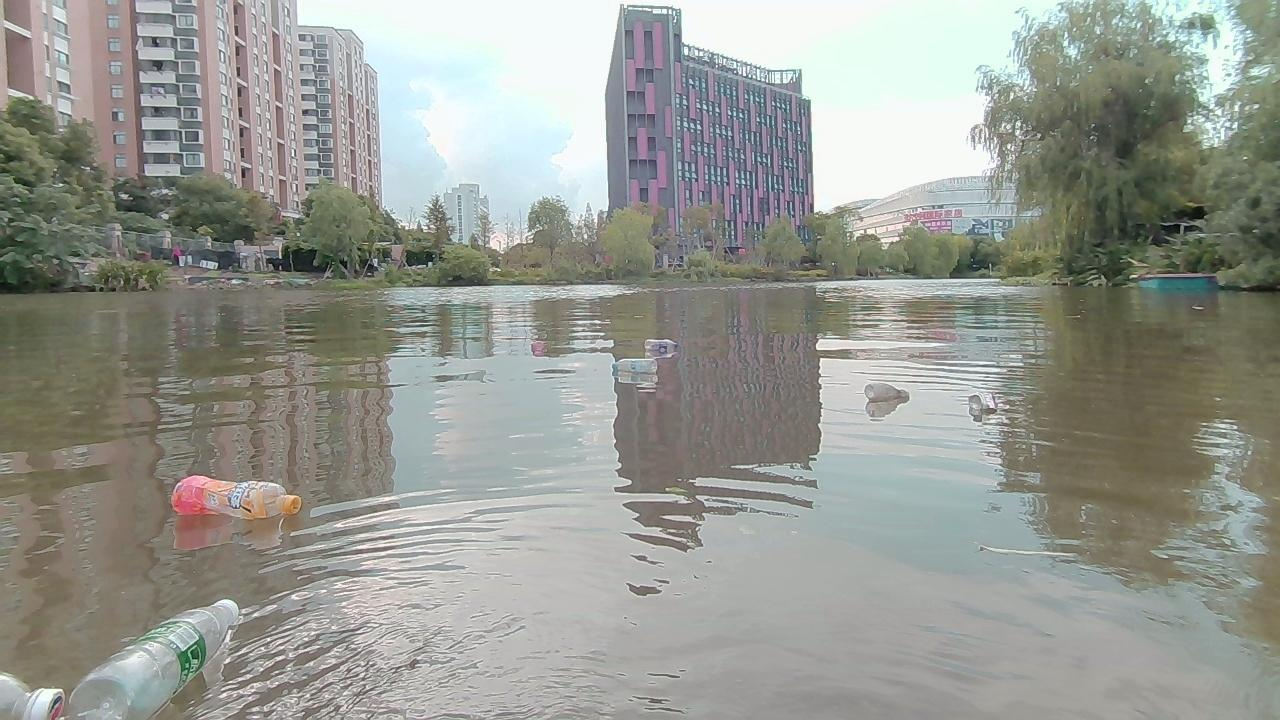Metal: (968, 392, 998, 410)
Plastic: (68, 597, 242, 719), (171, 474, 302, 521), (0, 666, 67, 719), (863, 381, 911, 402), (610, 358, 659, 374), (643, 338, 679, 351)
